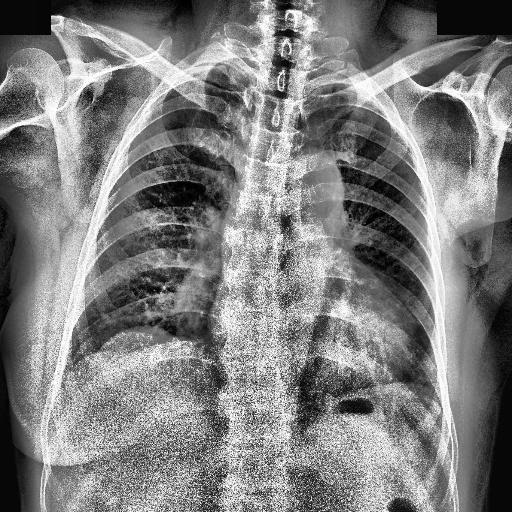0- Aortic enlargement: (278, 143, 346, 238), (278, 147, 344, 227), (290, 148, 344, 226)
11- Pleural thickening: (348, 80, 385, 114)
3- Cardiomegaly: (212, 266, 416, 379), (206, 292, 414, 379), (208, 309, 416, 379)
